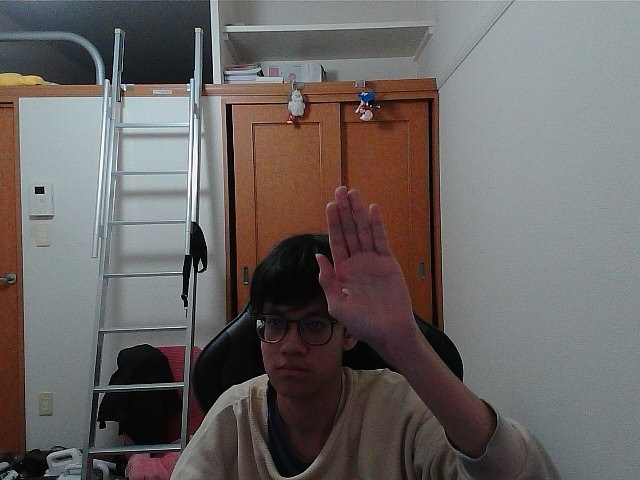open_palm: (321, 198, 388, 323)
